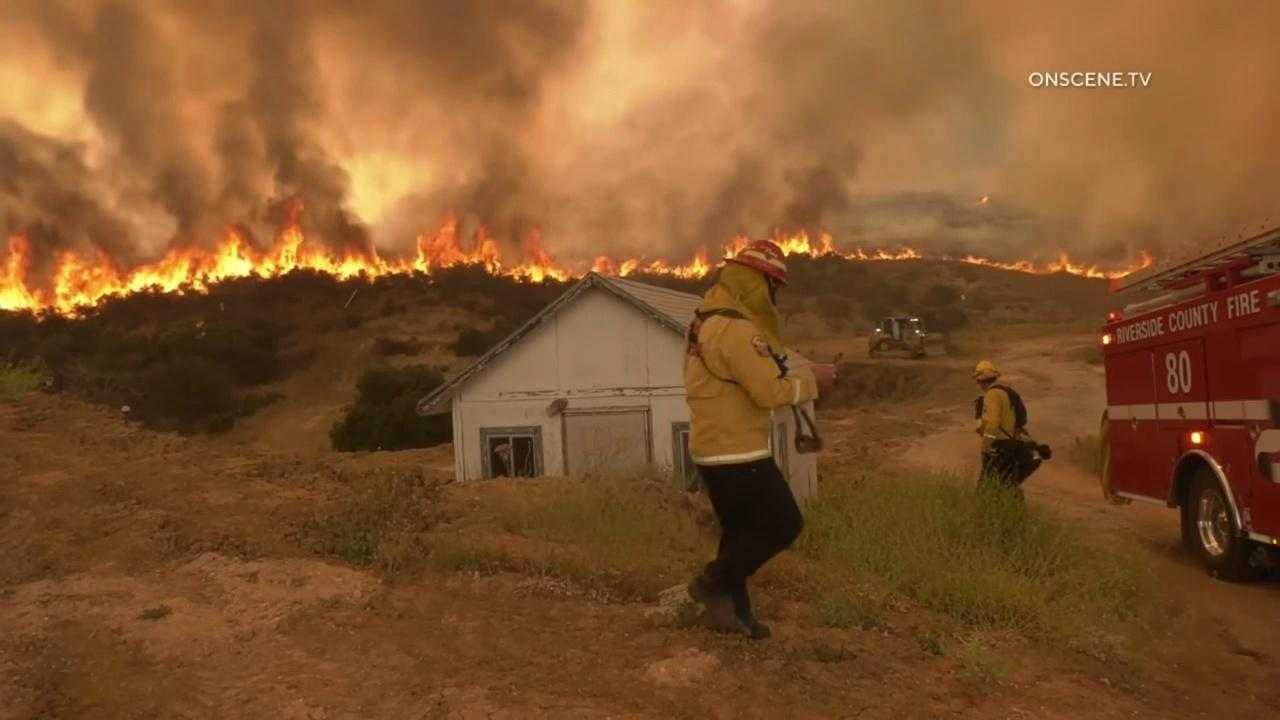fire: (0, 198, 571, 322), (576, 227, 923, 281), (960, 248, 1154, 280), (980, 194, 989, 205), (195, 321, 204, 328)
smoke: (0, 0, 1280, 270)
